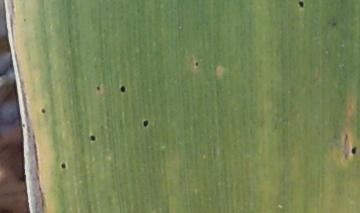tarspot: (296, 1, 309, 11), (141, 118, 152, 128), (89, 132, 98, 143), (118, 83, 127, 93), (60, 161, 69, 170), (94, 84, 103, 93), (351, 146, 358, 157), (40, 106, 48, 115), (193, 60, 200, 68)
